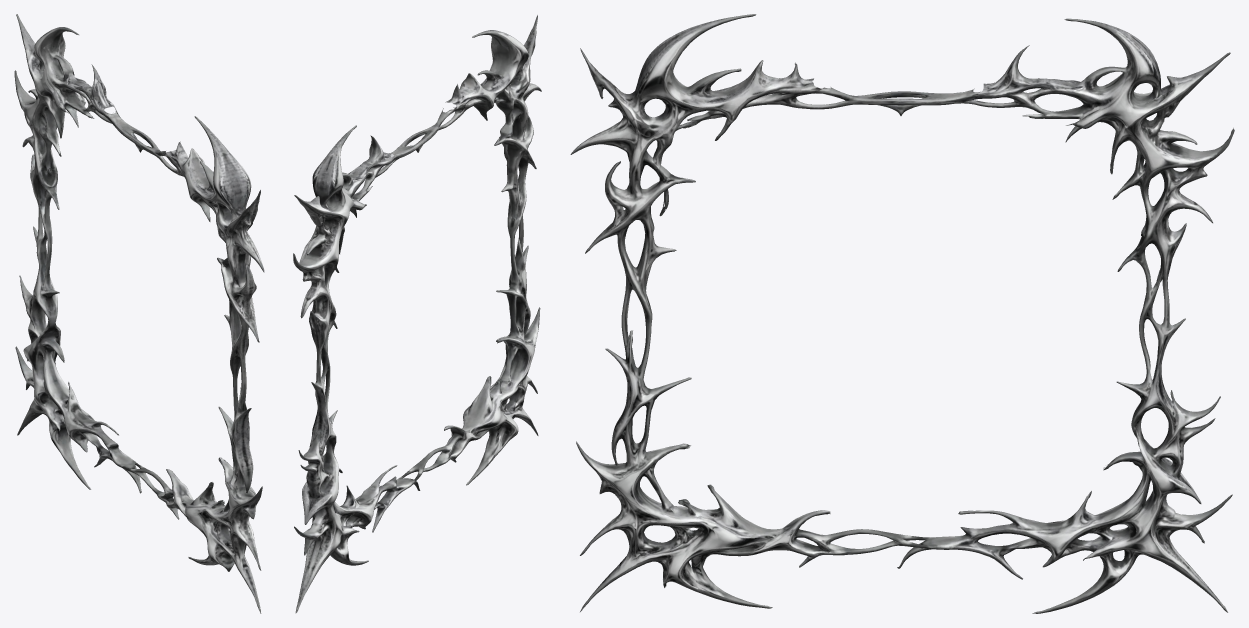
The model's file is cover-frame.glb.
The picture shows the model from 3 angles, left to right: view 1: azimuth 30°, elevation 25°; view 2: azimuth 150°, elevation 25°; view 3: azimuth 270°, elevation 25°; orthographic projection. The views are drawn at different scales.
Visible parts, largest first — view 1: tripo_node_3b17334a-5055-492e-ad44-6cfdb5c4c80c; view 2: tripo_node_3b17334a-5055-492e-ad44-6cfdb5c4c80c; view 3: tripo_node_3b17334a-5055-492e-ad44-6cfdb5c4c80c.
Part boxes in pixels (x1,y1,x2,y2): tripo_node_3b17334a-5055-492e-ad44-6cfdb5c4c80c: (14, 14, 264, 613); tripo_node_3b17334a-5055-492e-ad44-6cfdb5c4c80c: (293, 15, 541, 613); tripo_node_3b17334a-5055-492e-ad44-6cfdb5c4c80c: (570, 14, 1234, 613).
Bounding box in the file's own units: 0.0771 × 0.9754 × 0.9789.
Materials: 1 (1 with a texture image).
